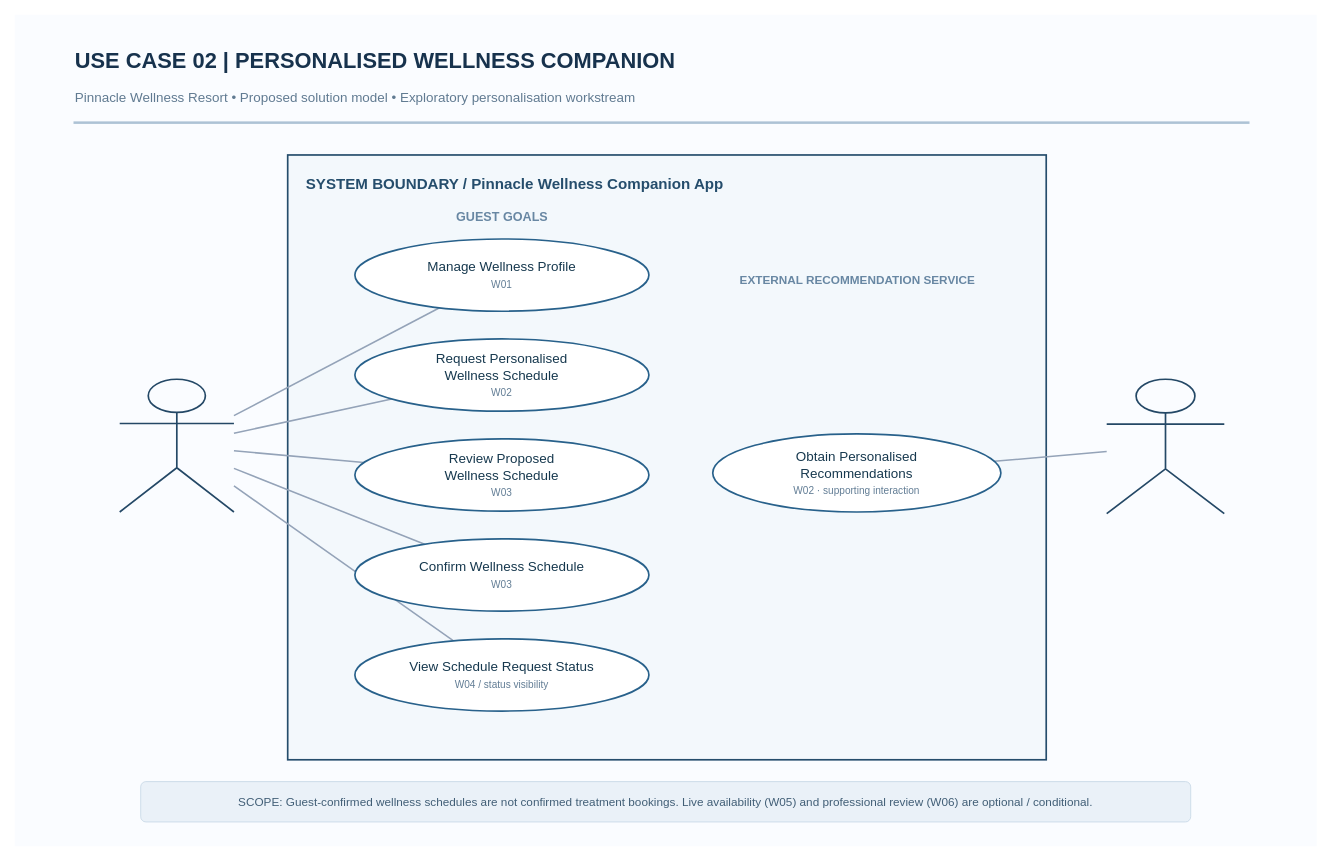
This 1331x860 diagram has some shape labels left out. Each missing label, with the centre of its shape:
AI Recommendation Engine (external): the point at 1165,446
Guest: the point at 176,445
